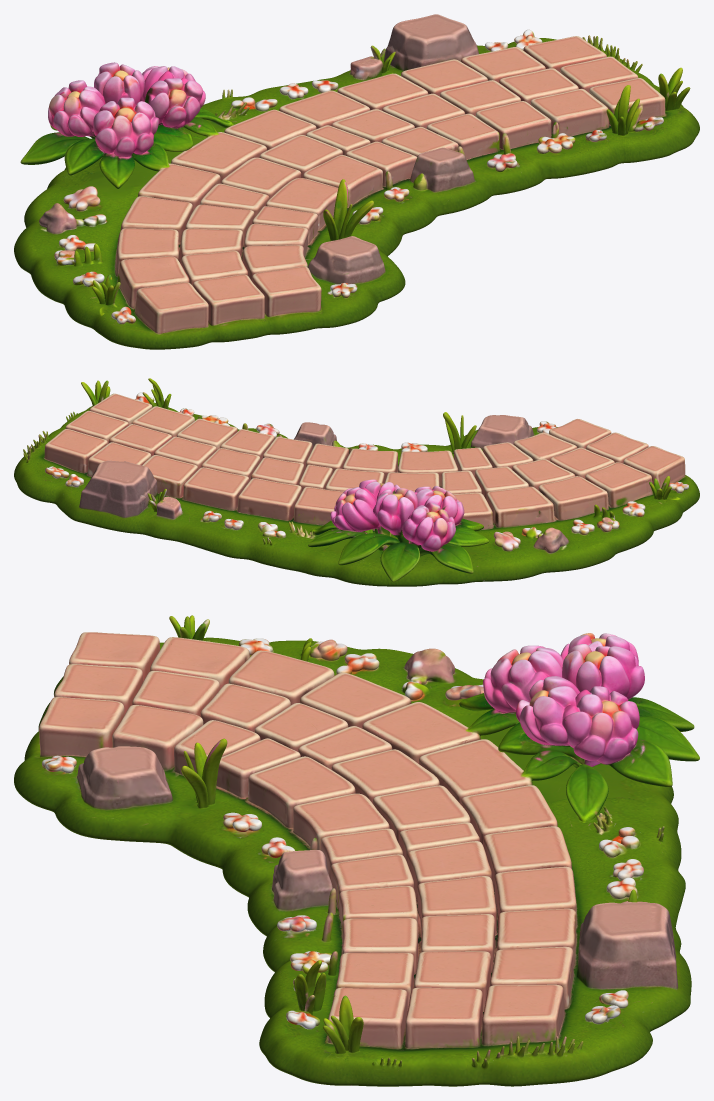
File: curved-path-left.glb
3 renders of one model, top to bottom at view 1: azimuth 30°, elevation 25°; view 2: azimuth 150°, elevation 25°; view 3: azimuth 270°, elevation 25°, orthographic. The views are drawn at different scales.
Bounding box in the file's own units: 1.9 × 0.2652 × 1.27.
Materials: 1 (1 with a texture image).
